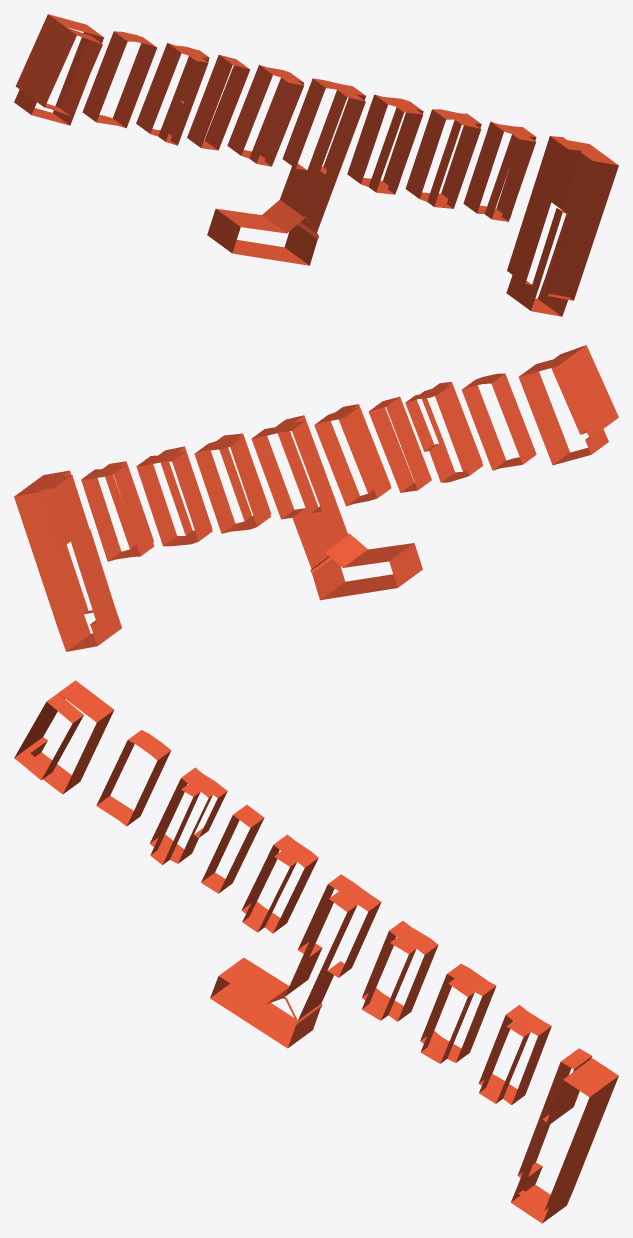
The model's file is Wall_Hini_2.0_Slope_1.5.obj.
3 views of the same model, one above another, from view 1: azimuth 30°, elevation 25°; view 2: azimuth 150°, elevation 25°; view 3: azimuth 330°, elevation 25° (orthographic).
Parts seen in each view (by area): view 1: 1, 6, 2, 5, 4, 3, 8, 9, 10, 7; view 2: 6, 1, 2, 5, 4, 3, 8, 9, 10, 7; view 3: 6, 1, 2, 4, 5, 3, 8, 9, 10, 7.
Part boxes in pixels (x1,y1,x2,y2): 1: [506, 136, 618, 316]; 6: [207, 78, 365, 265]; 2: [14, 14, 103, 125]; 5: [405, 109, 481, 208]; 4: [347, 94, 423, 194]; 3: [463, 121, 536, 221]; 8: [227, 65, 304, 166]; 9: [136, 43, 209, 145]; 10: [82, 31, 156, 128]; 7: [187, 54, 250, 150]; 6: [251, 415, 422, 600]; 1: [14, 470, 121, 651]; 2: [518, 345, 618, 465]; 5: [136, 446, 212, 546]; 4: [194, 433, 271, 533]; 3: [81, 461, 154, 561]; 8: [314, 404, 391, 506]; 9: [405, 382, 483, 482]; 10: [462, 373, 536, 470]; 7: [368, 396, 431, 492]; 6: [210, 874, 381, 1048]; 1: [511, 1048, 618, 1223]; 2: [14, 680, 113, 794]; 4: [361, 921, 438, 1021]; 5: [420, 964, 496, 1063]; 3: [478, 1005, 551, 1104]; 8: [241, 834, 318, 933]; 9: [149, 767, 227, 864]; 10: [96, 730, 171, 826]; 7: [201, 805, 264, 893].
Bounding box in the file's own units: 136 × 91 × 11.98.
